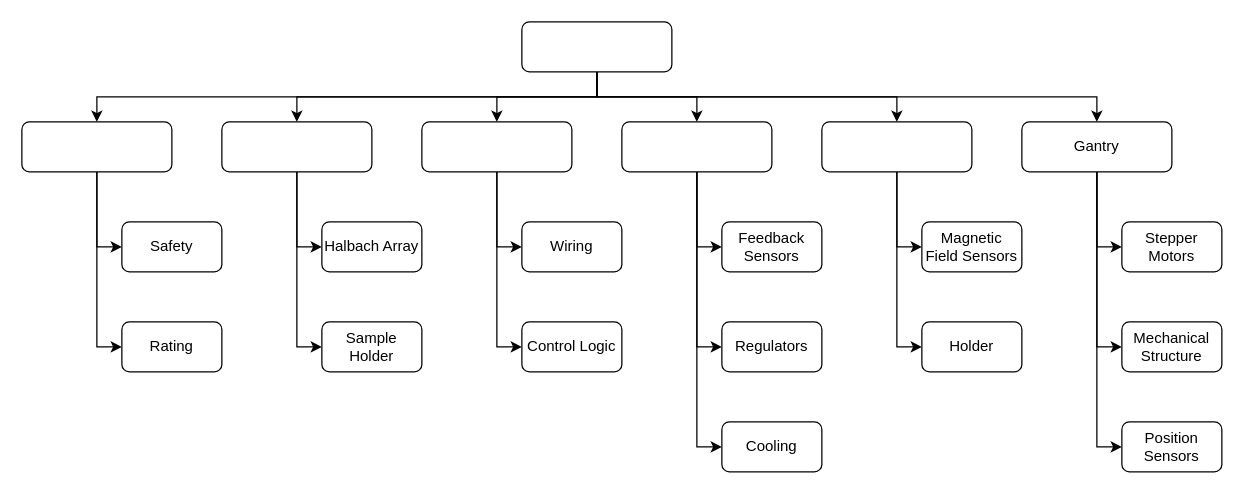
Image size: 1244x494. Some labels were removed from this diagram. Each missing label, with the centre of its shape:
Benchtop Design: the point at 296,146
Controller: the point at 496,146
Current Source: the point at 696,146
Gradient Sensor: the point at 896,146
Power Supply: the point at 96,146
Pulspin: the point at 596,46
